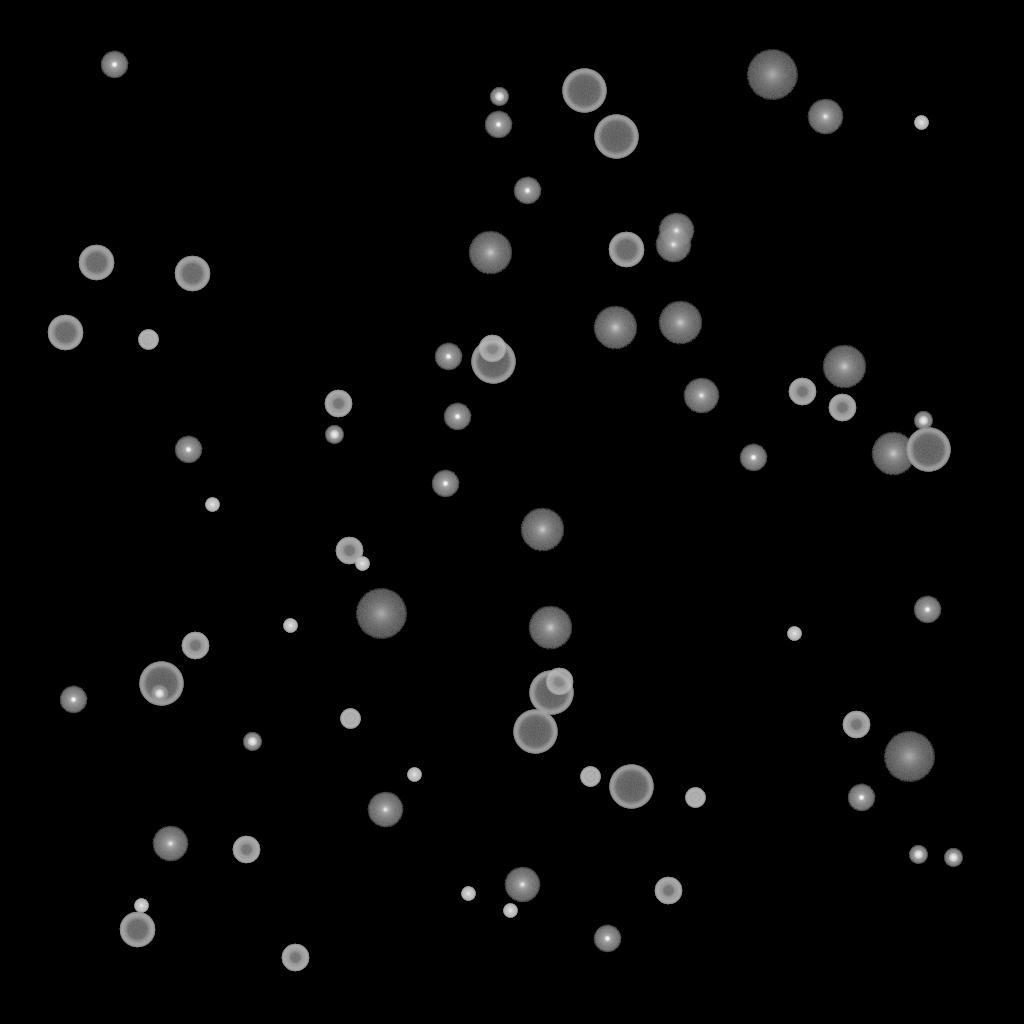depth:-10: (100, 51, 128, 79), (443, 403, 471, 431), (593, 925, 621, 953), (434, 343, 462, 371), (431, 470, 459, 498), (739, 444, 767, 472), (847, 784, 875, 812), (913, 596, 941, 624), (484, 111, 512, 139), (174, 436, 202, 464), (513, 177, 541, 205), (59, 686, 87, 714)
depth:-20: (490, 88, 508, 106), (150, 685, 168, 703), (243, 733, 261, 751), (325, 426, 343, 444), (909, 846, 927, 864), (914, 412, 932, 430), (944, 849, 962, 867)
depth:-30: (407, 768, 421, 782), (283, 619, 297, 633), (461, 887, 475, 901), (355, 557, 369, 571), (787, 627, 801, 641), (205, 498, 219, 512), (914, 116, 928, 130), (134, 899, 148, 913), (503, 904, 517, 918)
depth:-40: (685, 788, 705, 808), (580, 767, 600, 787), (340, 709, 360, 729), (138, 330, 158, 350)
depth:-50: (545, 668, 573, 696), (828, 394, 856, 422), (788, 378, 816, 406), (654, 877, 682, 905), (181, 632, 209, 660), (281, 944, 309, 972), (842, 711, 870, 739), (324, 390, 352, 418), (478, 335, 506, 363), (232, 836, 260, 864), (335, 537, 363, 565)
depth:-60: (119, 912, 155, 948), (174, 256, 210, 292), (78, 245, 114, 281), (47, 315, 83, 351), (608, 232, 644, 268)
depth:-70: (139, 662, 183, 706), (471, 340, 515, 384), (609, 765, 653, 809), (513, 710, 557, 754), (562, 69, 606, 113), (906, 428, 950, 472), (529, 671, 573, 715), (594, 115, 638, 159)
depth:0: (655, 227, 691, 263), (807, 99, 843, 135), (367, 792, 403, 828), (658, 213, 694, 249), (504, 867, 540, 903), (683, 378, 719, 414), (152, 826, 188, 862)
depth:10: (468, 231, 512, 275), (822, 345, 866, 389), (593, 306, 637, 350), (528, 606, 572, 650), (658, 301, 702, 345), (520, 508, 564, 552), (871, 432, 915, 476)
depth:20: (355, 589, 407, 639), (883, 732, 935, 782), (746, 50, 798, 100)
